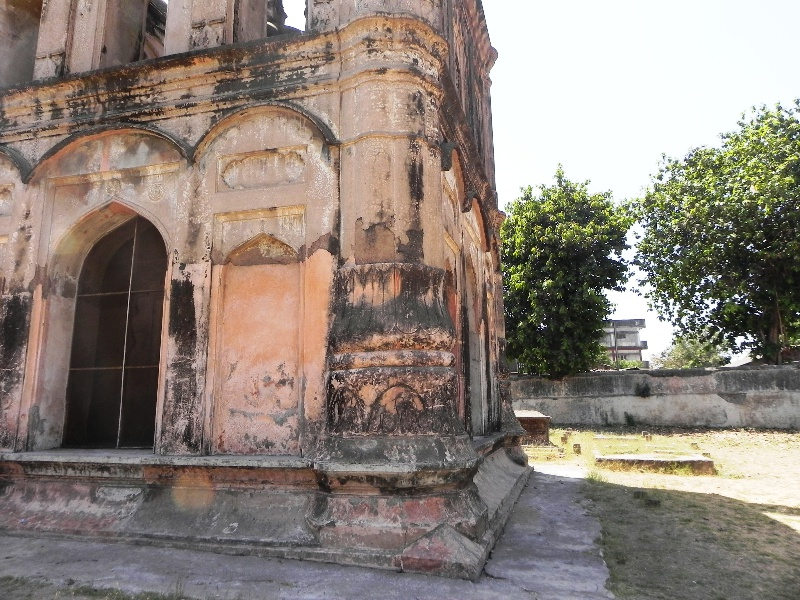Spalling: (210, 246, 311, 267), (30, 261, 50, 298)
